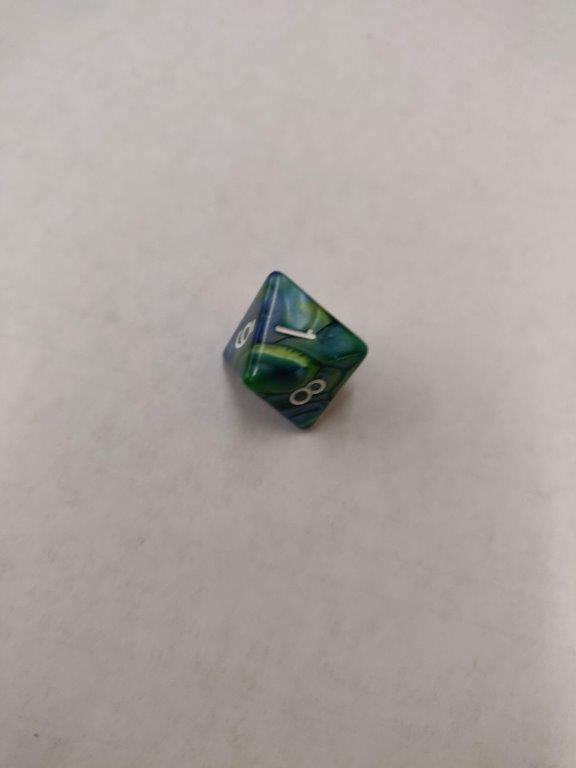d8-1: (217, 270, 370, 431)
